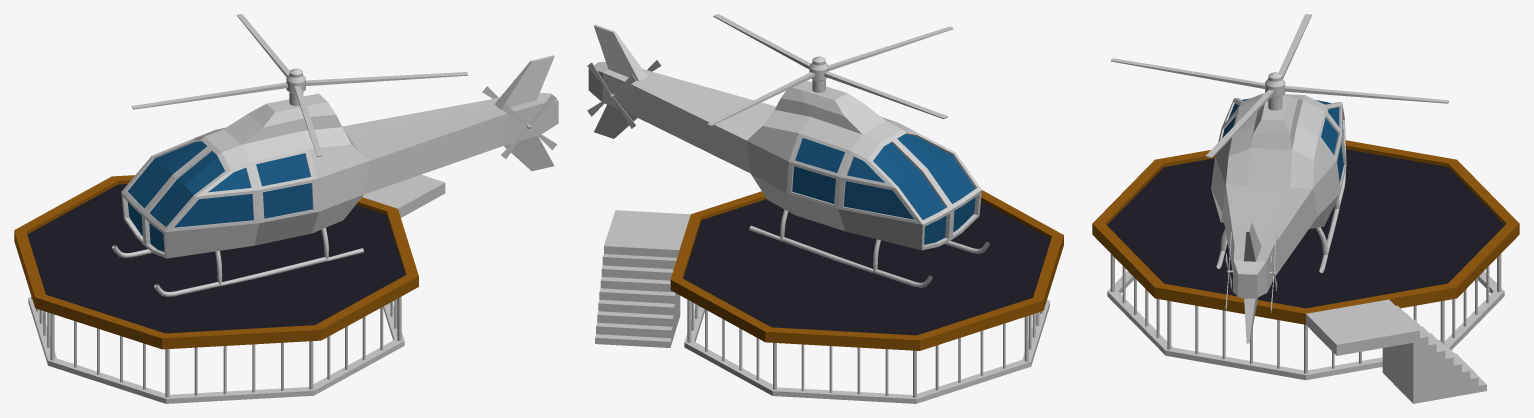
The model's file is copter_000222.obj.
The picture shows the model from 3 angles, left to right: view 1: azimuth 30°, elevation 25°; view 2: azimuth 150°, elevation 25°; view 3: azimuth 270°, elevation 25°; orthographic projection. The views are drawn at different scales.
Visible parts, largest first — view 1: Cylinder.001_Cylinder.012, Helicopter.007_Cylinder.008, Helicopter.001_Cylinder.001, Cylinder.004, Cylinder.003_Cylinder.005, Cylinder.002, Helicopter.003_Cylinder.004; view 2: Cylinder.001_Cylinder.012, Helicopter.007_Cylinder.008, Helicopter.001_Cylinder.001, Cylinder.004, Cylinder.003_Cylinder.005, Cylinder.002, Helicopter.004_Cylinder.005; view 3: Cylinder.001_Cylinder.012, Helicopter.007_Cylinder.008, Helicopter.001_Cylinder.001, Cylinder.004, Cylinder.002, Cylinder.003_Cylinder.005.
Boxes of the visible parts, x1,y1,x2,y2 form: Cylinder.001_Cylinder.012: (14,174,445,403); Helicopter.007_Cylinder.008: (112,55,558,296); Helicopter.001_Cylinder.001: (131,14,467,156); Cylinder.004: (194,307,383,395); Cylinder.003_Cylinder.005: (36,299,397,389); Cylinder.002: (31,296,401,397); Helicopter.003_Cylinder.004: (501,94,557,158); Cylinder.001_Cylinder.012: (595,190,1063,403); Helicopter.007_Cylinder.008: (588,24,989,287); Helicopter.001_Cylinder.001: (707,14,953,126); Cylinder.004: (705,309,888,395); Cylinder.003_Cylinder.005: (691,302,1042,390); Cylinder.002: (687,299,1046,397); Helicopter.004_Cylinder.005: (587,62,636,128); Cylinder.001_Cylinder.012: (1092,140,1519,403); Helicopter.007_Cylinder.008: (1211,93,1346,343); Helicopter.001_Cylinder.001: (1111,14,1448,157); Cylinder.004: (1122,266,1489,337); Cylinder.002: (1110,253,1501,373); Cylinder.003_Cylinder.005: (1195,305,1416,368).
Size of the model in its own units: 9.18 by 4.47 by 6.77.
